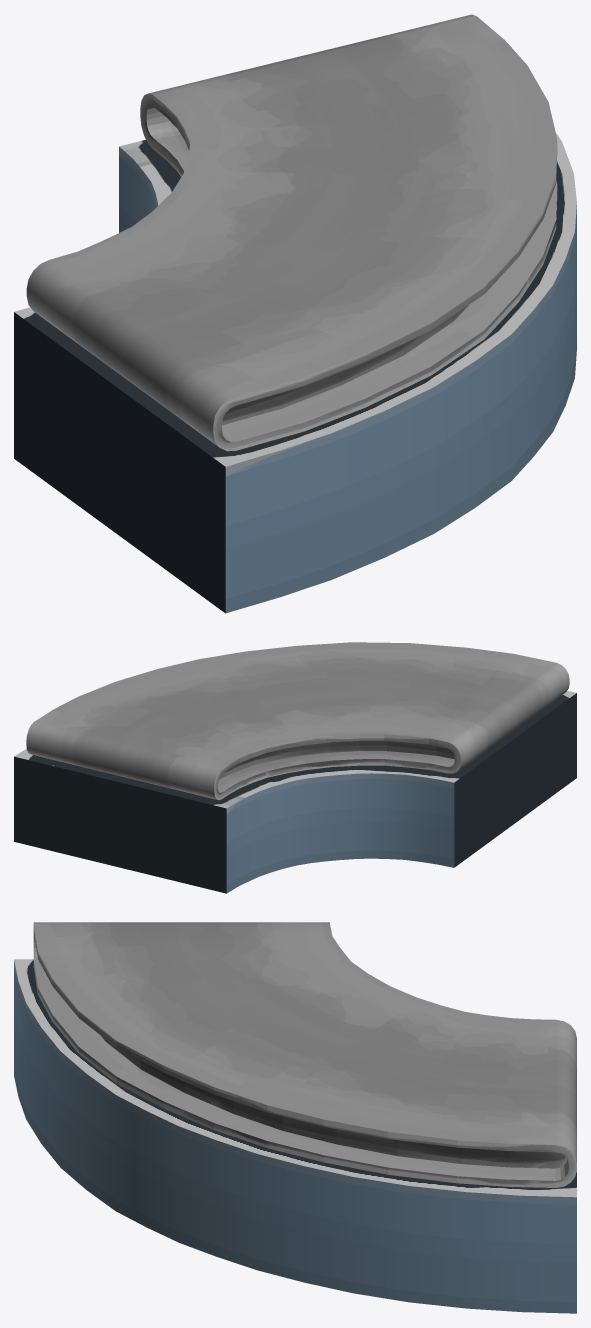
The model's file is conveyor_belt_right90.fbx.
3 renders of one model, top to bottom at view 1: azimuth 30°, elevation 25°; view 2: azimuth 150°, elevation 25°; view 3: azimuth 270°, elevation 25°, orthographic. The views are drawn at different scales.
Parts seen in each view (by area): view 1: ConveyorBelt_Curve1_R; view 2: ConveyorBelt_Curve1_R; view 3: ConveyorBelt_Curve1_R.
Boxes of the visible parts, <box> form: ConveyorBelt_Curve1_R: <box>14,14,576,613</box>; ConveyorBelt_Curve1_R: <box>14,642,576,893</box>; ConveyorBelt_Curve1_R: <box>14,922,576,1313</box>.
Size of the model in its own units: 570 by 179 by 570.
